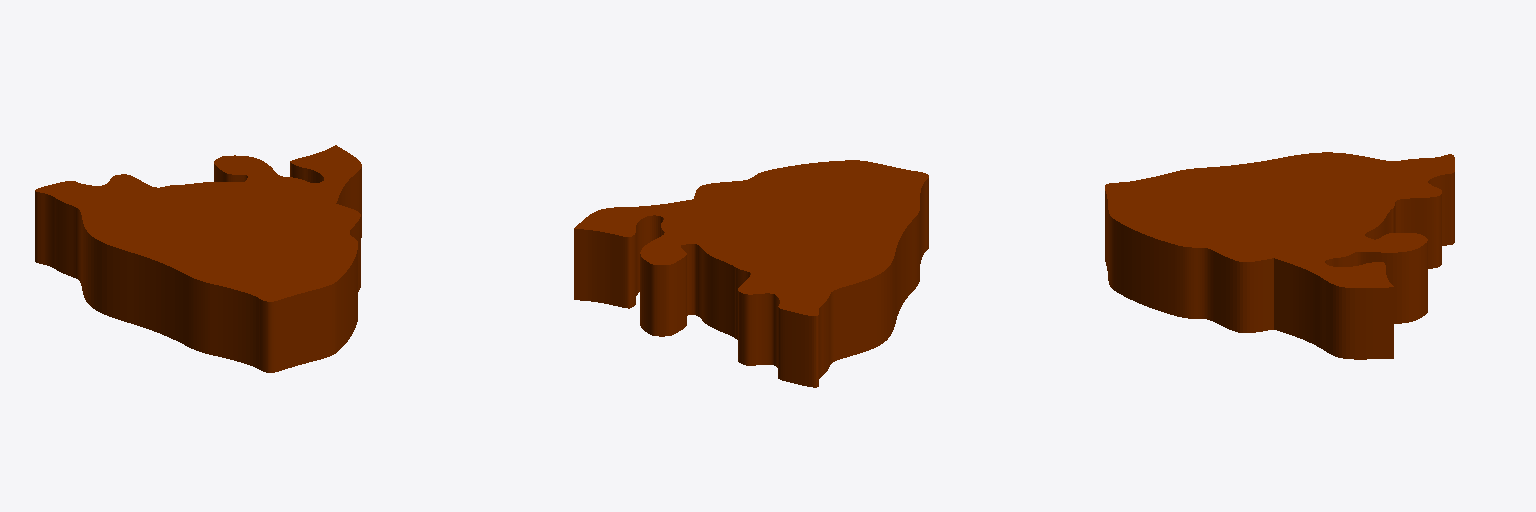
The picture shows the model from 3 angles: view 1: azimuth 30°, elevation 25°; view 2: azimuth 150°, elevation 25°; view 3: azimuth 270°, elevation 25°; orthographic projection.
Visible parts, largest first — view 1: Curve.021_path4218; view 2: Curve.021_path4218; view 3: Curve.021_path4218.
Part boxes in pixels (bbox=[...]): Curve.021_path4218: bbox=[35, 145, 361, 372]; Curve.021_path4218: bbox=[574, 160, 928, 387]; Curve.021_path4218: bbox=[1105, 152, 1454, 359].
Bounding box in the file's own units: 0.4091 × 0.1 × 0.4462.